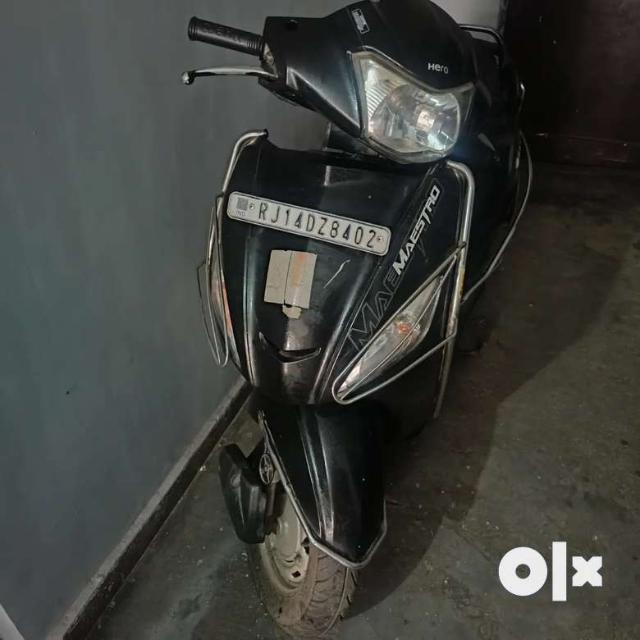Indian_Number_Plate: (226, 188, 390, 255)
